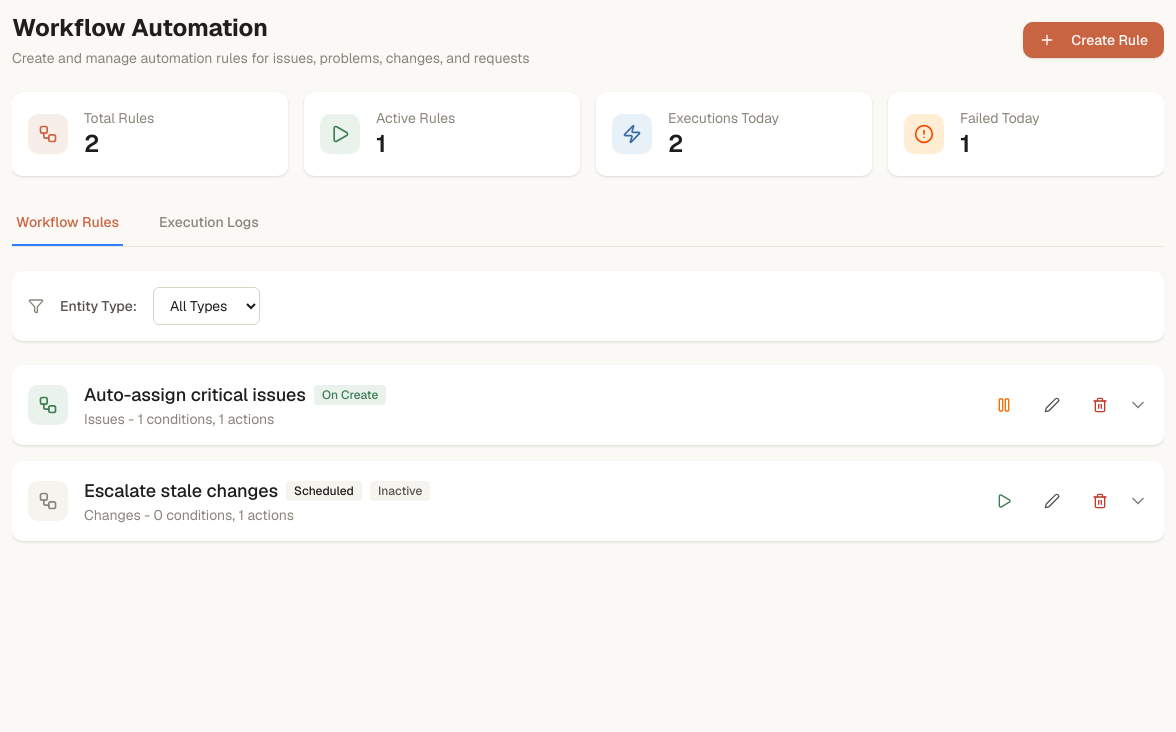
it: WorkflowManagementPage › Rule Card - Expand/Collapse › expands rule card when clicked
Expected: the heading "Auto-assign critical issues" is shown, [84, 381, 306, 409]
Step 1. Click the element that starts with "Auto-assign critical issues" → click(235, 405), box [84, 381, 386, 429]
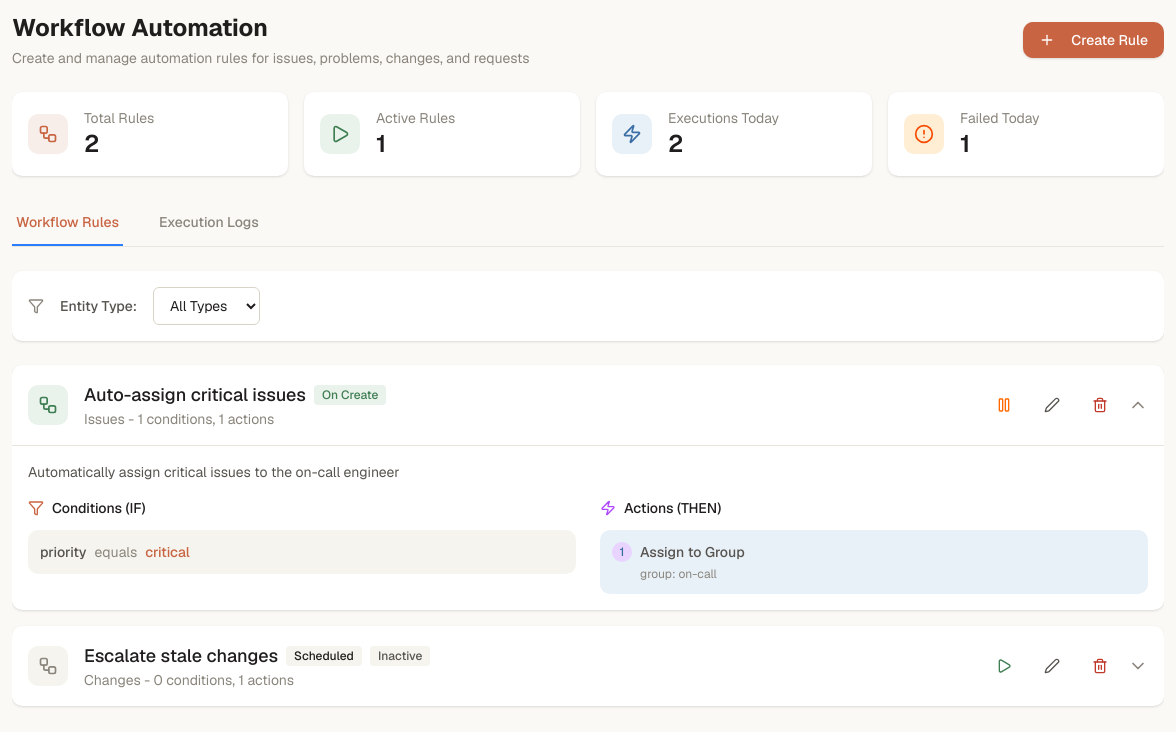
Now the heading "Conditions (IF)" is shown, box [28, 499, 146, 517]
